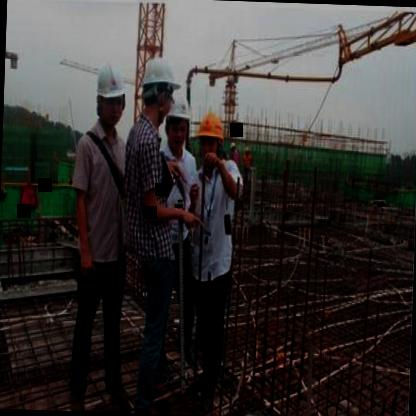helmet: (134, 54, 178, 128), (92, 58, 132, 135), (164, 93, 197, 157), (195, 105, 226, 170)
